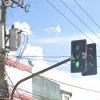traffic lights: (70, 37, 88, 73)
